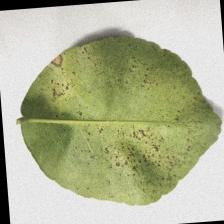canker: (104, 126, 168, 189)
